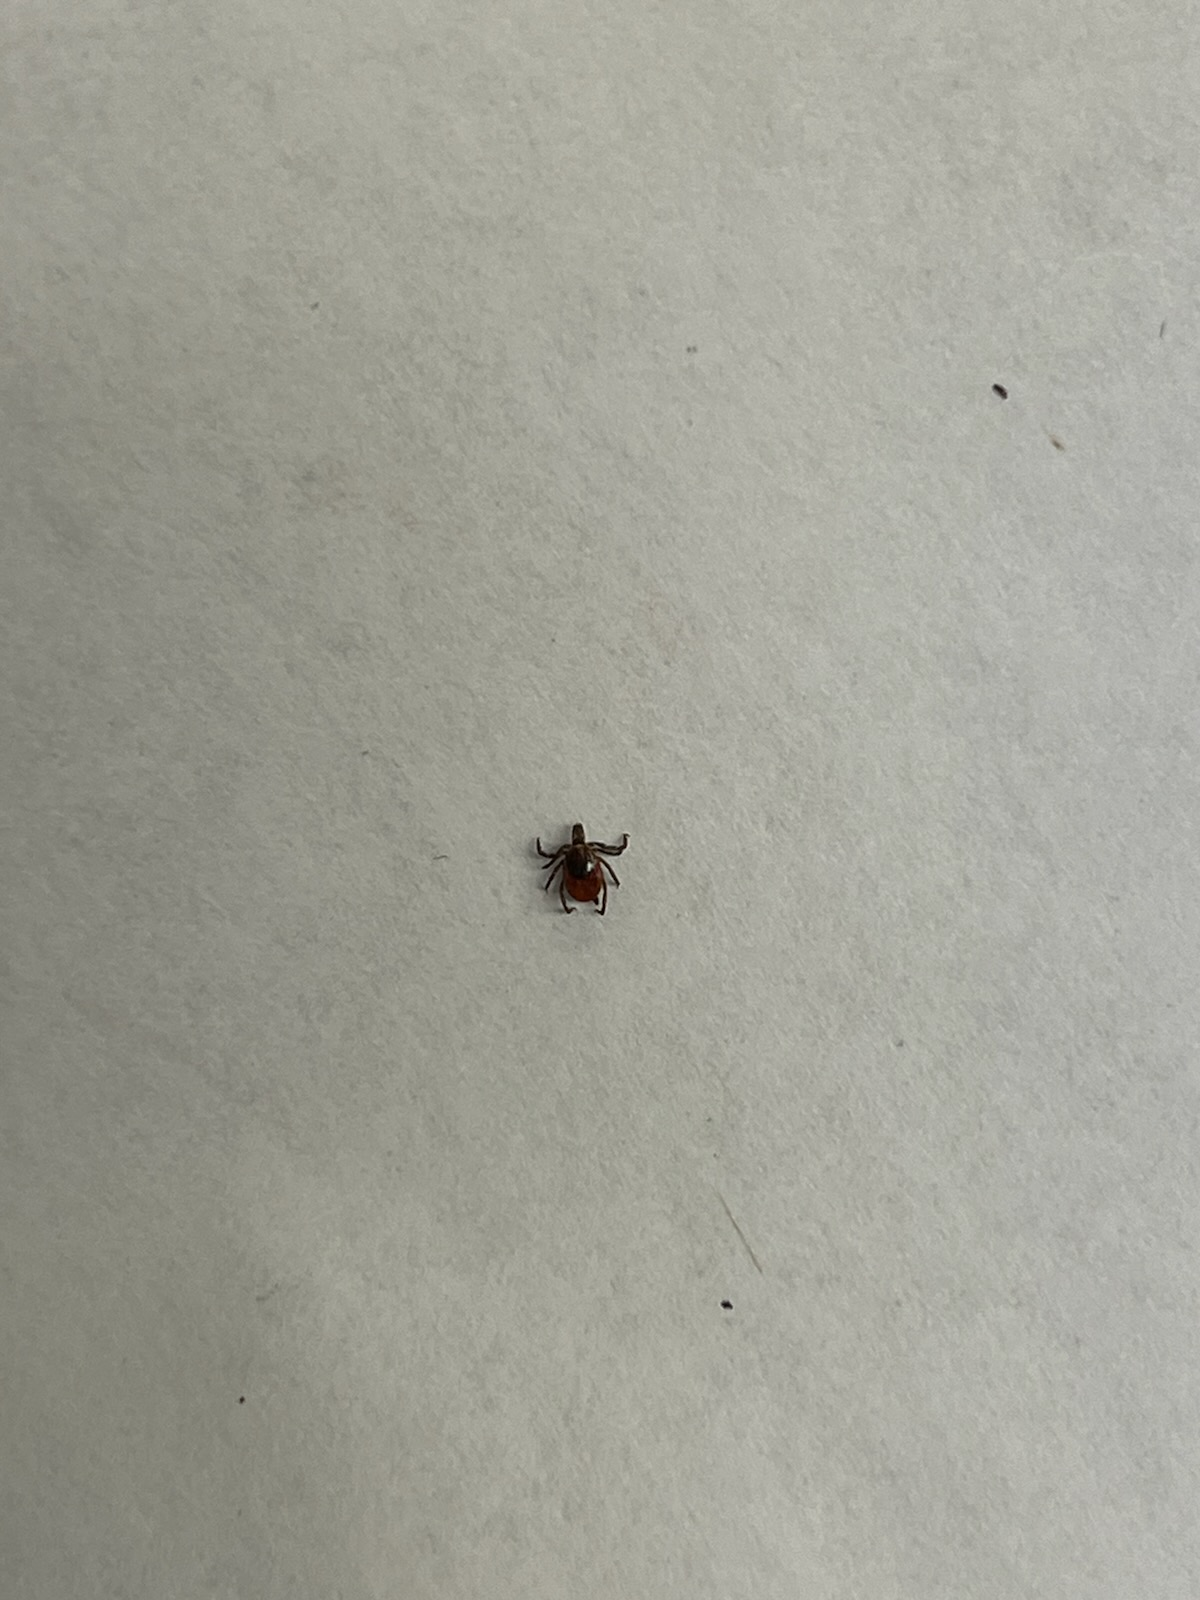unlabelled_tick: (512, 805, 642, 924)
